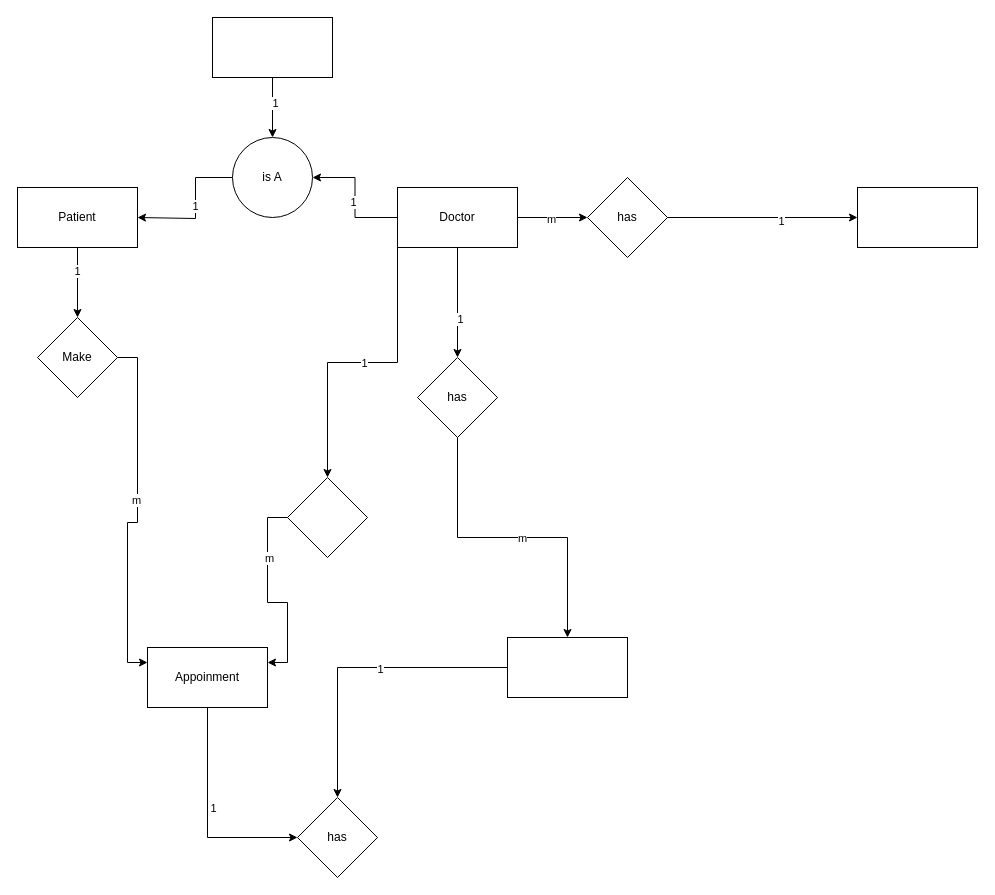
This 995x895 diagram has some shape labels left out. The box of each missing label's shape, as (x1, y1, x2, y2) in pixels:
AppoinmentSlot: (506, 636, 628, 698)
Create: (286, 476, 368, 558)
Speclizaton: (856, 186, 978, 248)
User: (212, 16, 332, 78)
